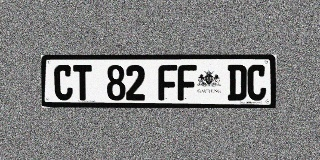2: (126, 65, 145, 100)
8: (107, 65, 125, 100)
C: (247, 65, 266, 101), (54, 65, 73, 100)
D: (227, 65, 247, 101)
F: (158, 65, 177, 100), (178, 65, 197, 100)
T: (73, 65, 92, 100)
